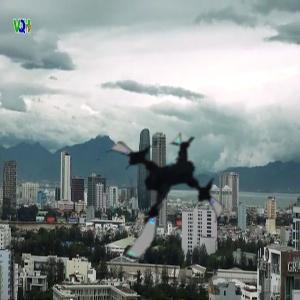drone: (86, 123, 230, 267)
